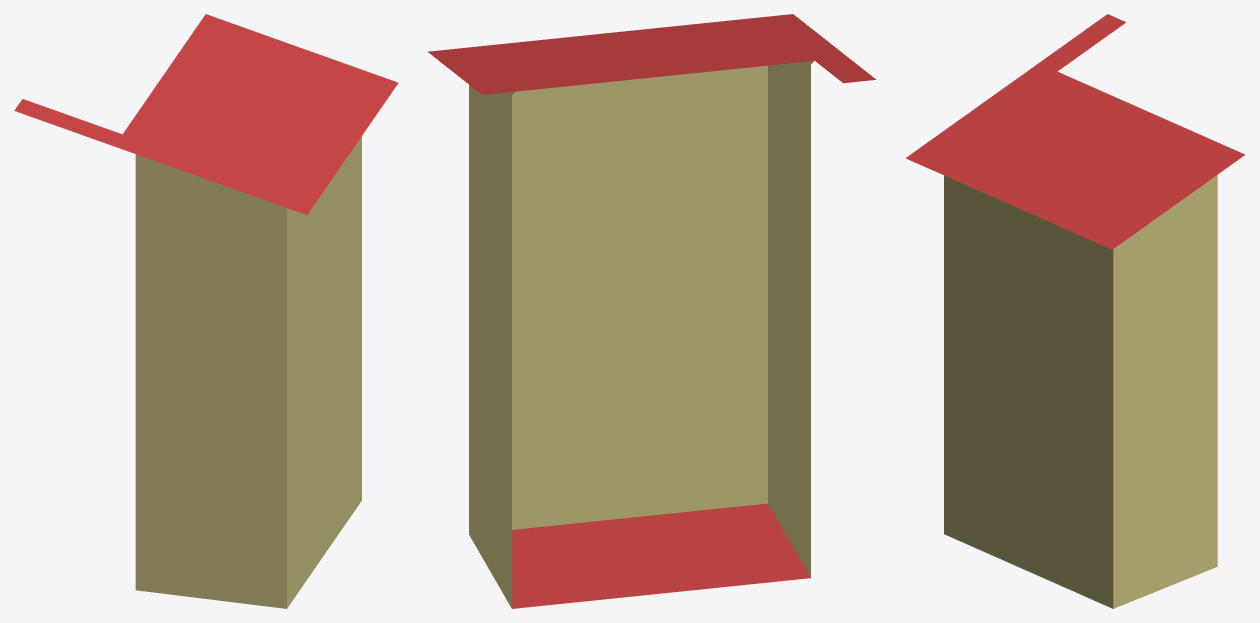
The picture shows the model from 3 angles, left to right: view 1: azimuth 30°, elevation 25°; view 2: azimuth 150°, elevation 25°; view 3: azimuth 270°, elevation 25°; orthographic projection. The views are drawn at different scales.
Size of the model in its own units: 7.51 by 6.23 by 8.85.
